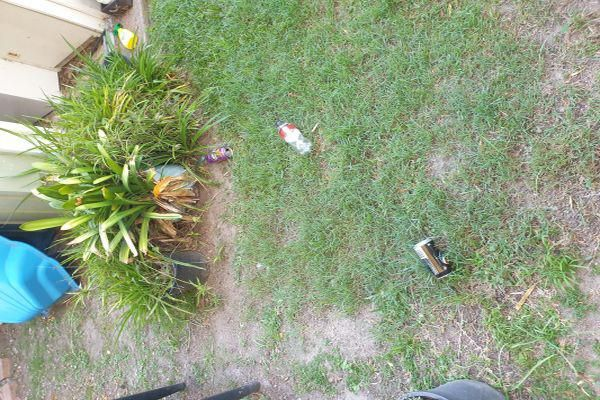Plastic Bottle: (412, 237, 454, 280), (274, 120, 315, 156), (204, 146, 233, 164)
